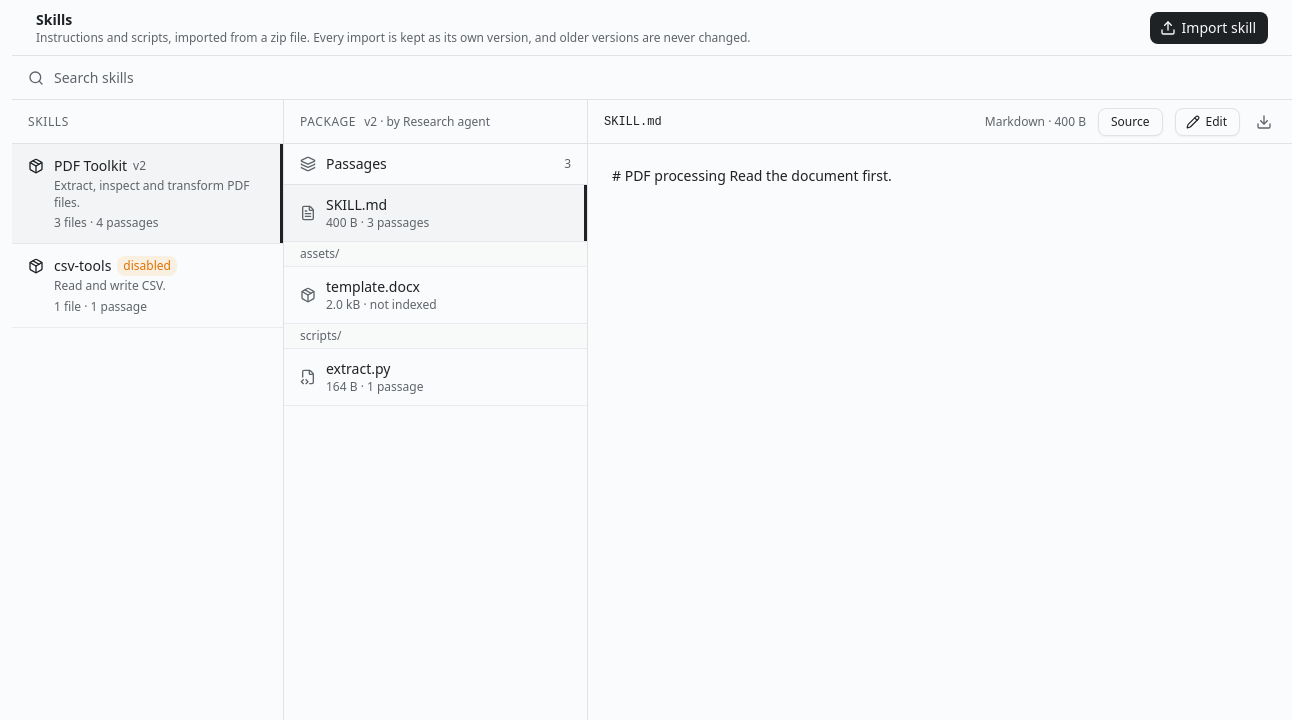
Test case: the skills screen › offers a binary file as a download rather than as text
The image size is (1292, 720).
Click the button "template.docx 2.0 kB · not indexed": (436, 296) left=284, top=267, right=587, bottom=324
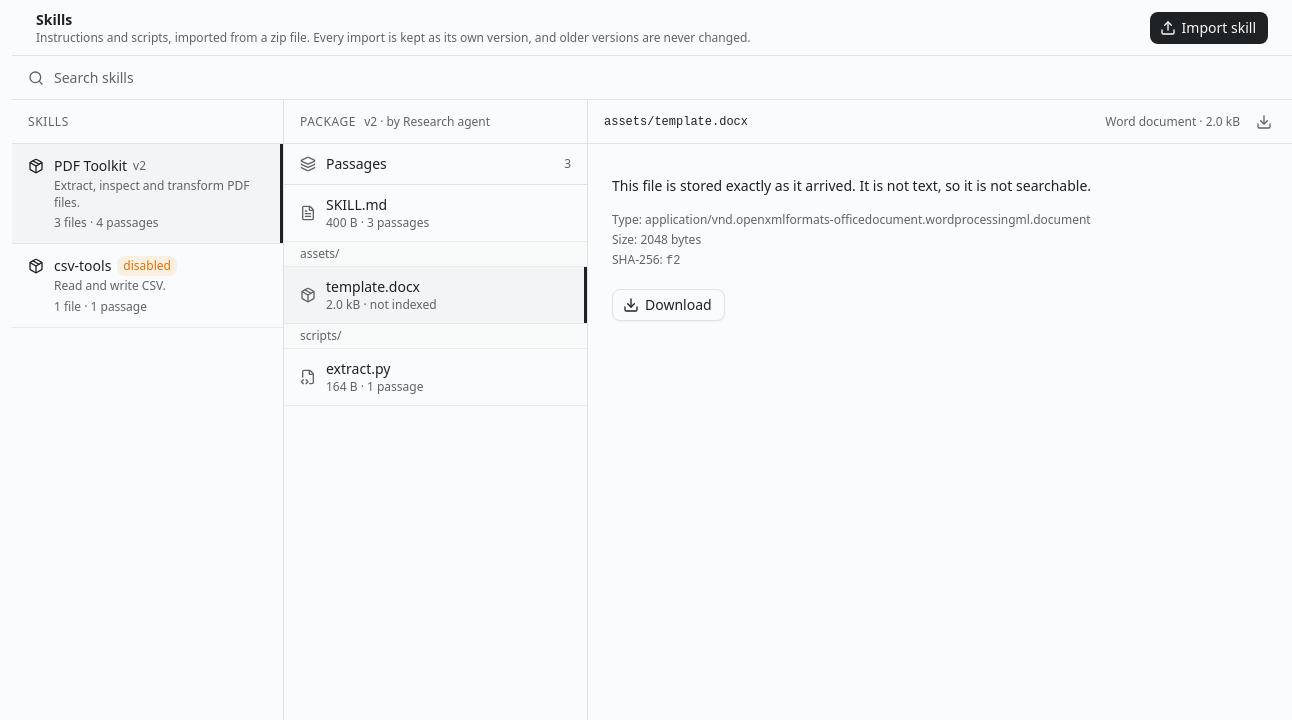
Check: the text "2.0 kB · not indexed" is shown, box left=326, top=296, right=436, bottom=313
Check: the text "stored exactly as it arrived" is shown, box left=612, top=176, right=1091, bottom=195
Check: the button "Download" is shown, box left=612, top=289, right=725, bottom=321
